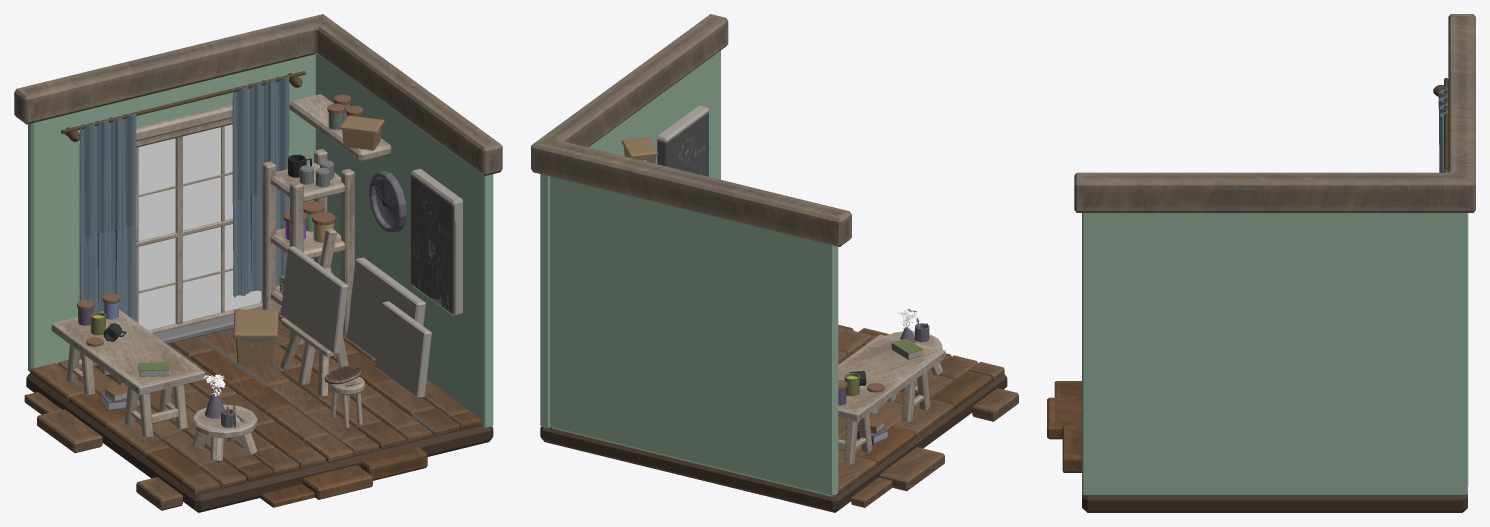
Rendered from unsettling_art_studio.glb.
3 renders of one model, left to right at view 1: azimuth 30°, elevation 25°; view 2: azimuth 150°, elevation 25°; view 3: azimuth 270°, elevation 25°, orthographic. The views are drawn at different scales.
Parts seen in each view (by area): view 1: Object_5, Object_4, Object_2, Object_3, Object_6; view 2: Object_5, Object_4, Object_3, Object_6; view 3: Object_5, Object_4.
Part boxes in pixels (x1,y1,x2,y2): Object_5: (16, 14, 502, 512); Object_4: (14, 30, 501, 510); Object_2: (138, 124, 261, 330); Object_3: (24, 73, 502, 512); Object_6: (103, 25, 483, 427); Object_5: (531, 14, 1007, 512); Object_4: (564, 21, 1018, 507); Object_3: (531, 137, 1005, 512); Object_6: (560, 44, 929, 385); Object_5: (1062, 14, 1475, 512); Object_4: (1047, 77, 1473, 439).
Size of the model in its own units: 5.03 by 4.34 by 5.03.
Materials: 5 (1 with a texture image).
